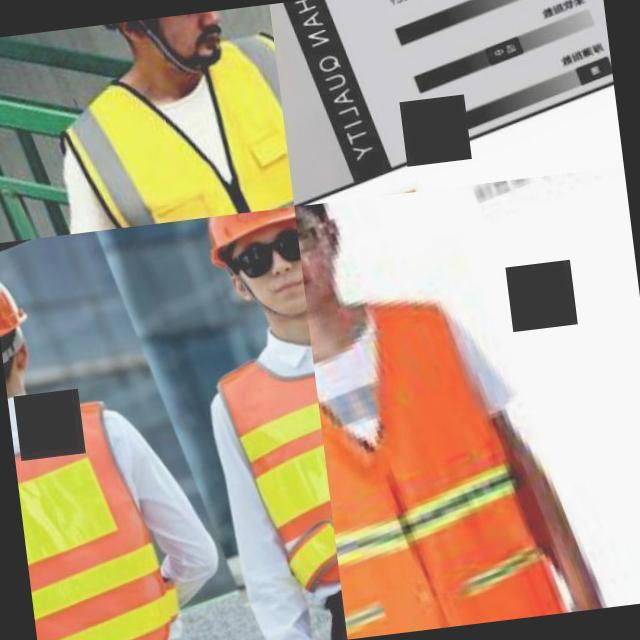vest: (303, 251, 576, 639), (6, 371, 196, 640), (63, 21, 294, 232), (196, 310, 342, 614)
